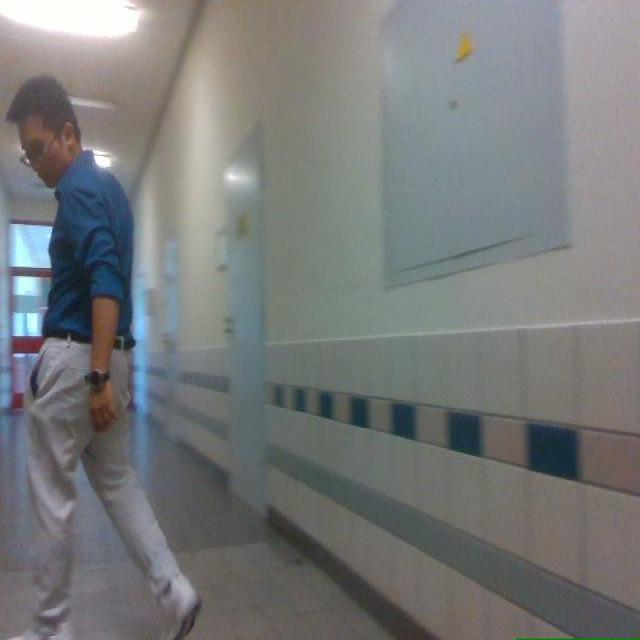humans: (6, 75, 200, 639)
